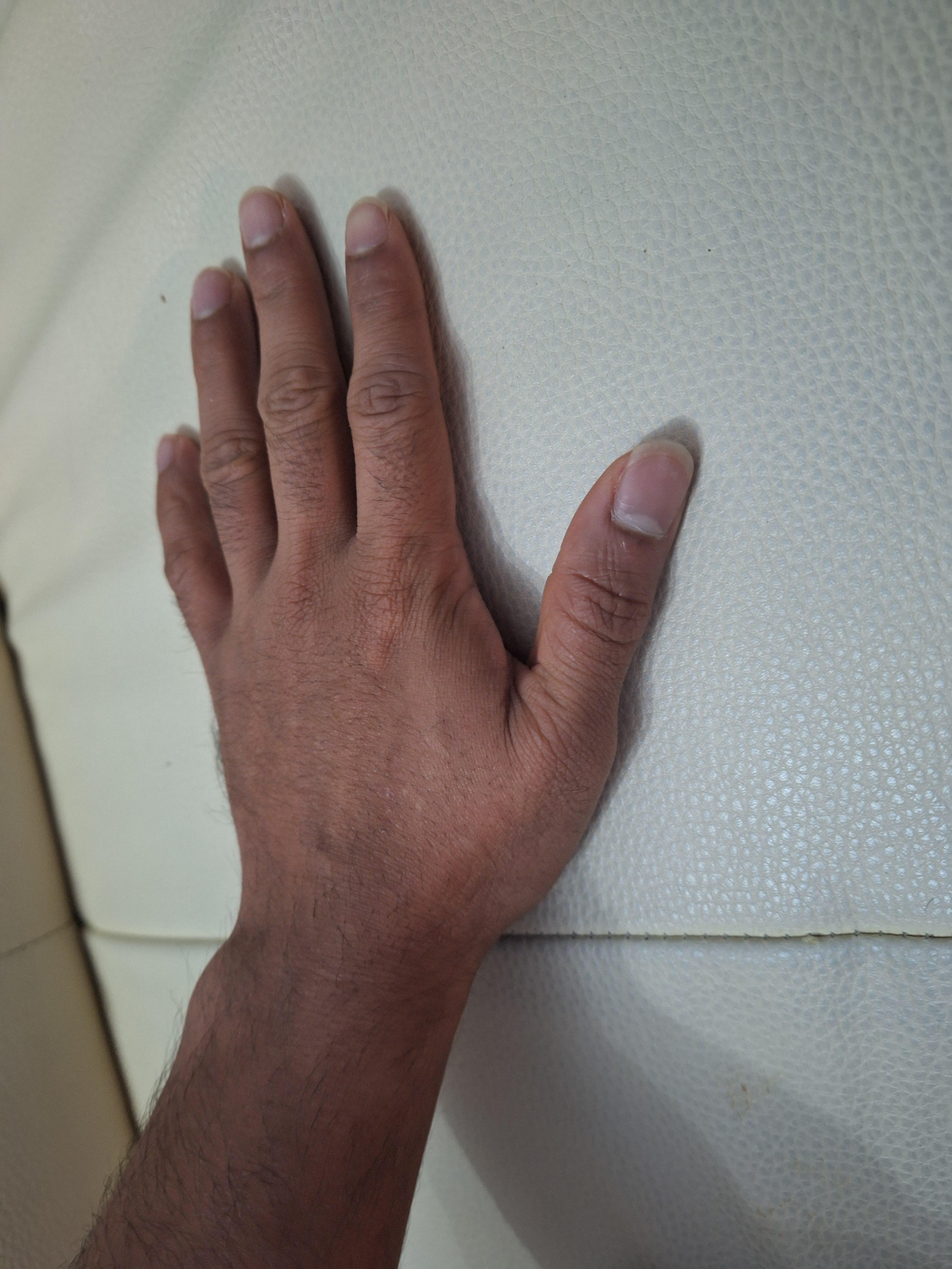Fingernail: (611, 441, 694, 537), (239, 185, 285, 250), (345, 197, 388, 256), (191, 265, 231, 320), (157, 435, 176, 474)
